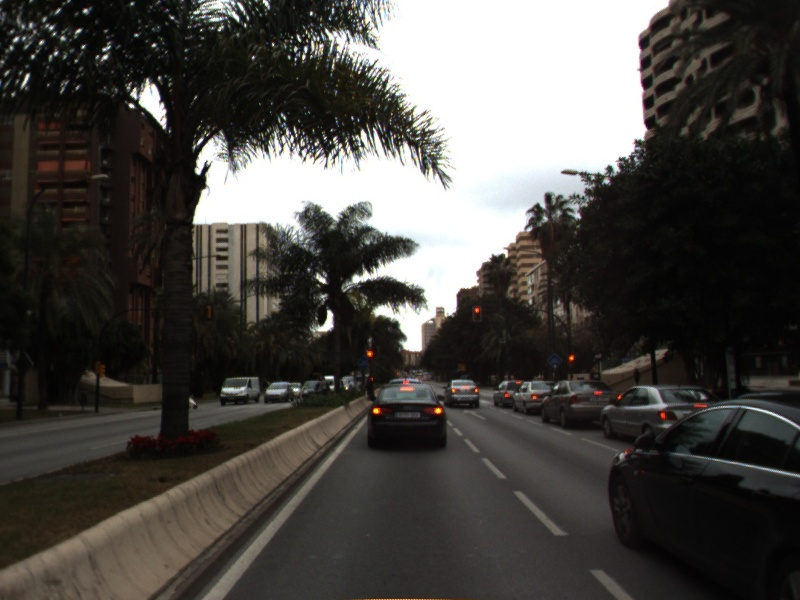STRAIGHT: (461, 406, 488, 422)
